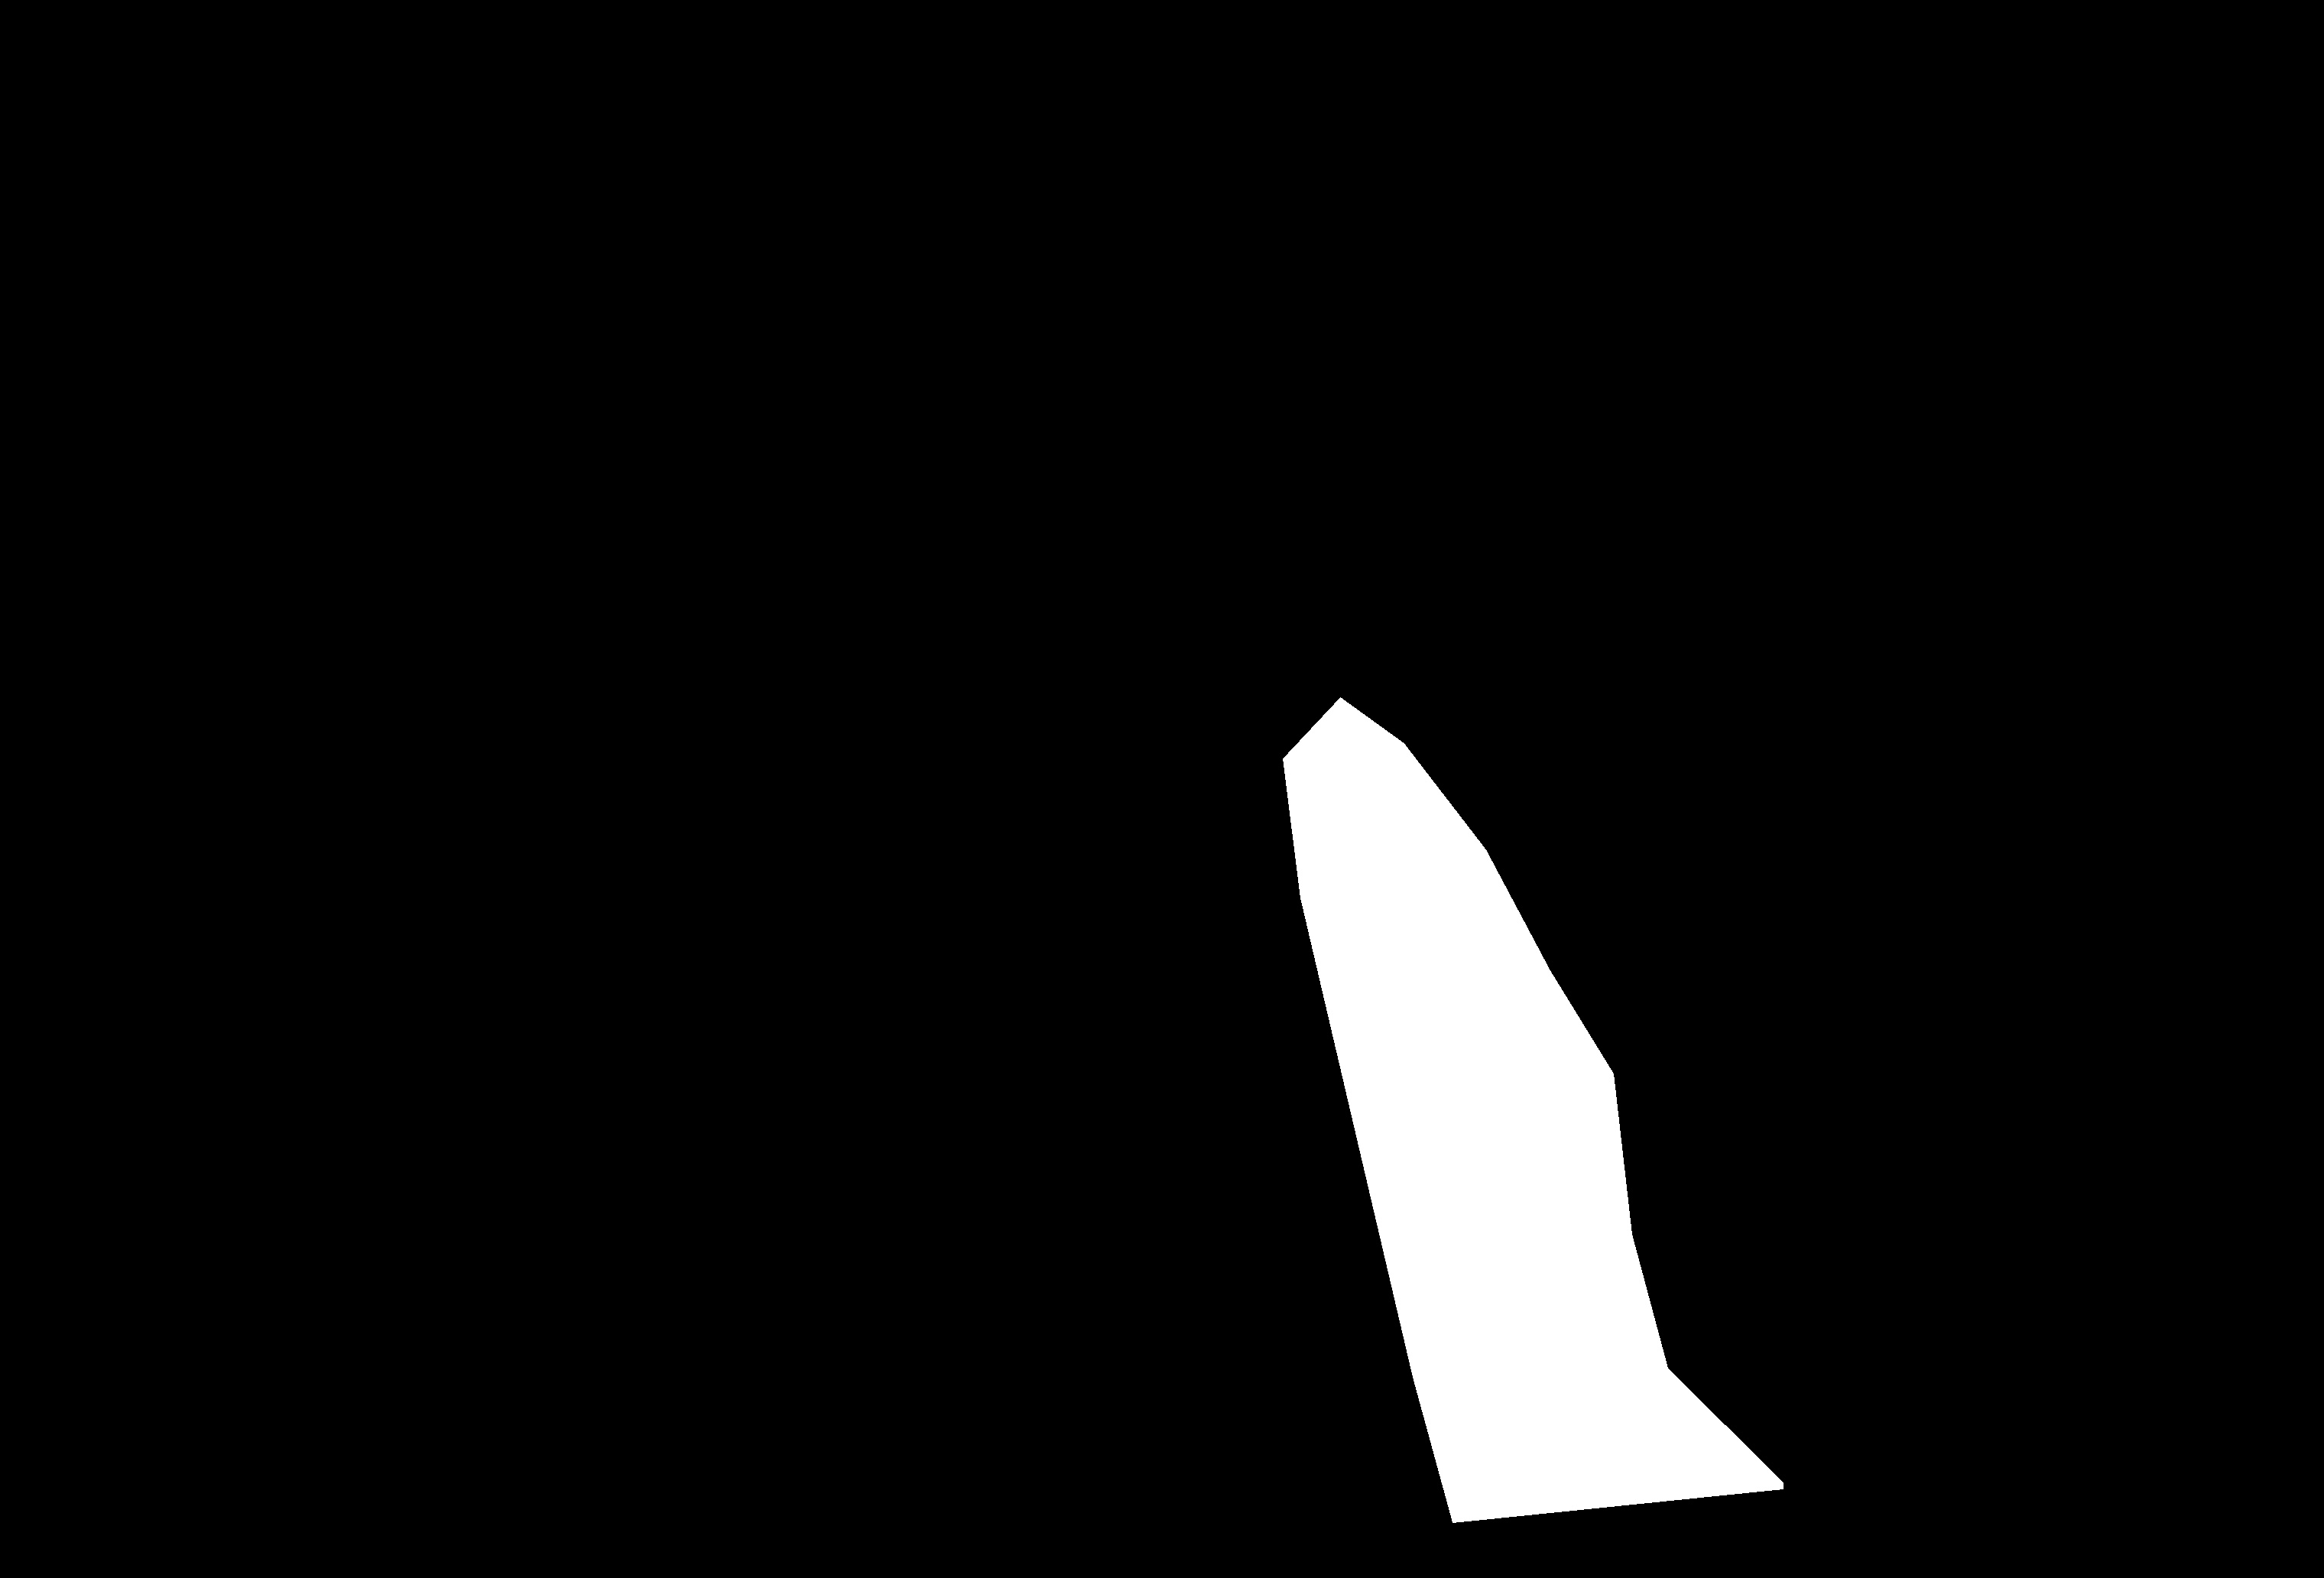Fire: (1250, 703, 1650, 1479)
